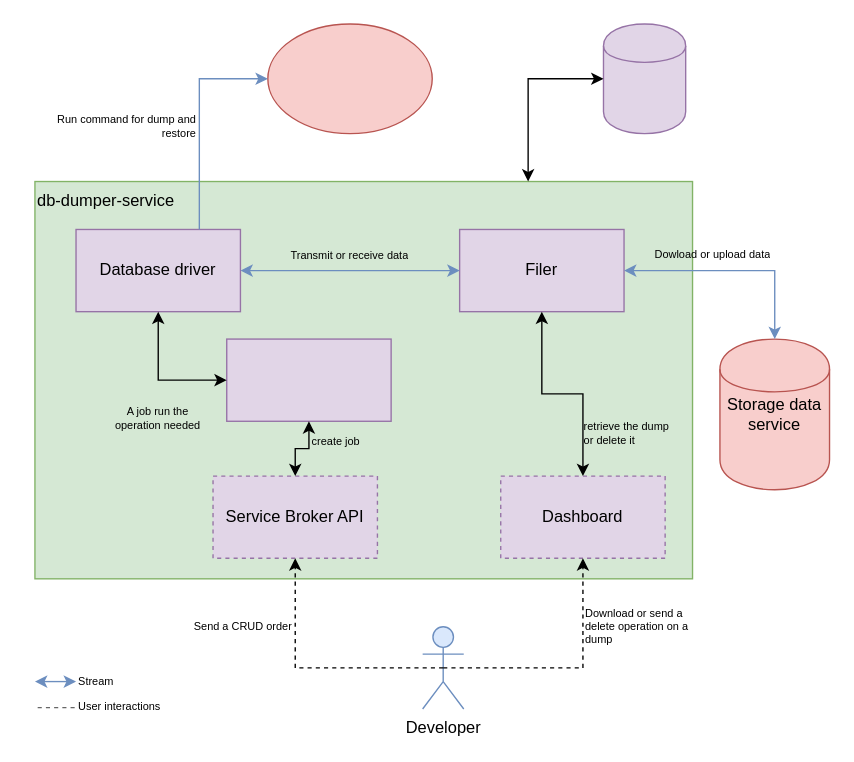
The diagram is 854 pixels wide and 762 high, and some of its shapes have lost their labels. Each missing label, with the centre of its shape:
A Dump, restore or delete Job: point (308, 379)
Database for db-dumper-service: point (644, 78)
Dump and restore binaries: point (349, 78)
